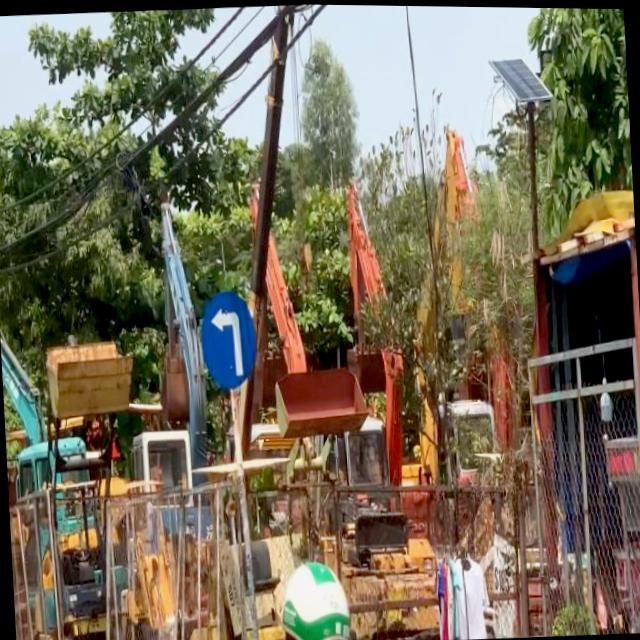Cac xe chi duoc re trai: (200, 285, 263, 394)
